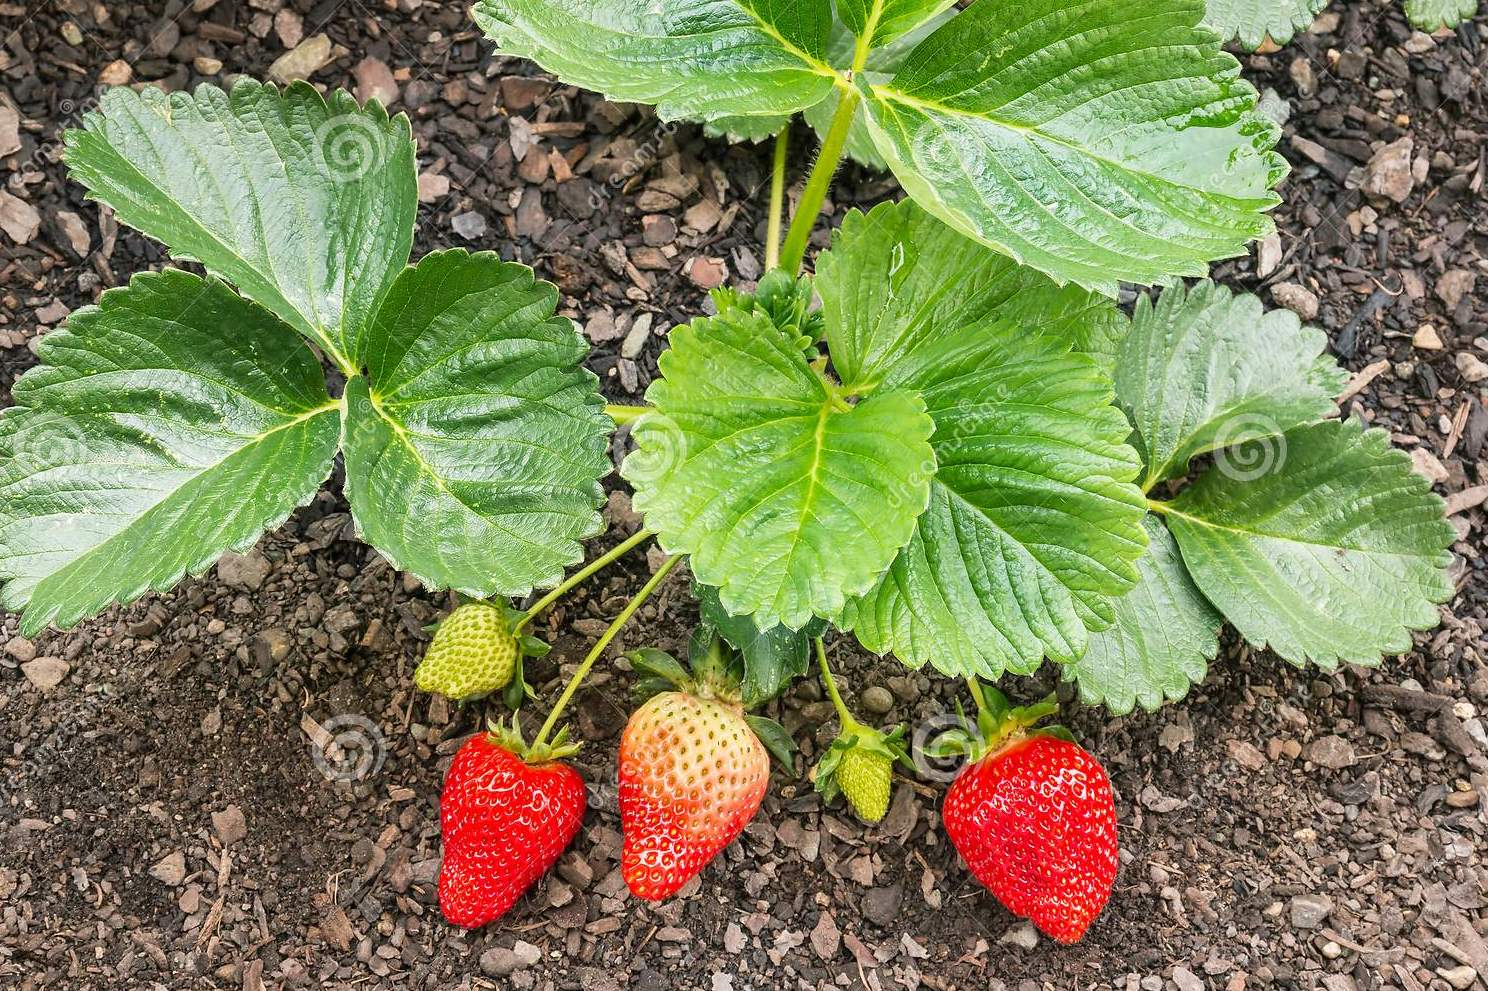ripe_strawberry: (937, 705, 1124, 948), (434, 720, 591, 933)
unripe_strawberry: (614, 664, 782, 903), (412, 590, 545, 706), (811, 719, 915, 825)
